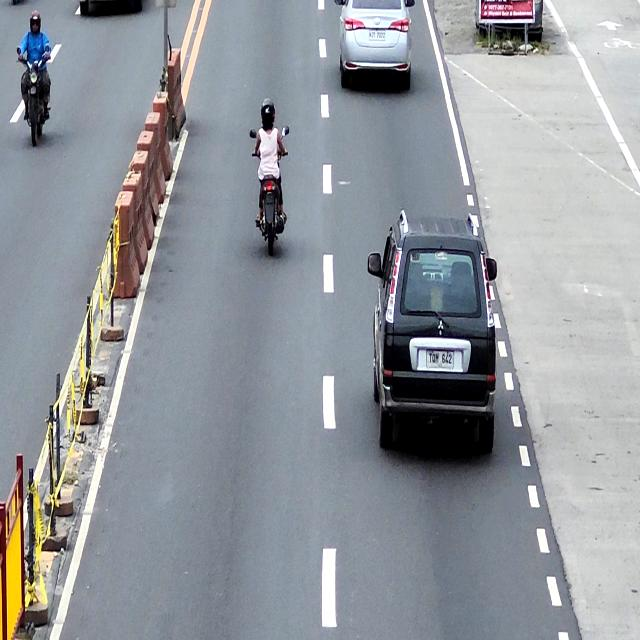Car: (368, 210, 498, 460), (333, 0, 415, 91)
License-Plate: (426, 350, 455, 368), (368, 30, 386, 41)
Motorcycle: (250, 129, 290, 254), (17, 46, 51, 145)
